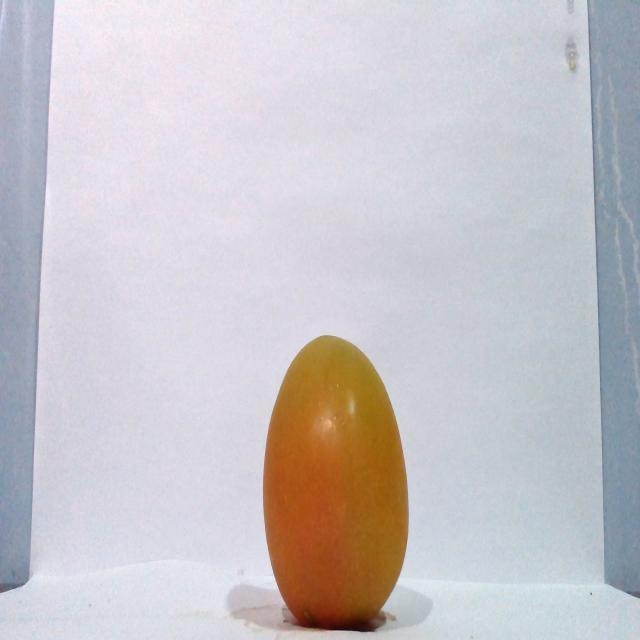Red: (260, 333, 410, 629)
